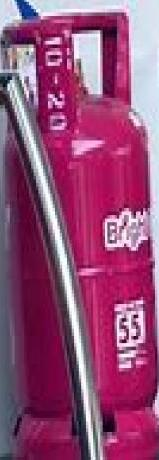cylinder: (1, 1, 159, 460)
